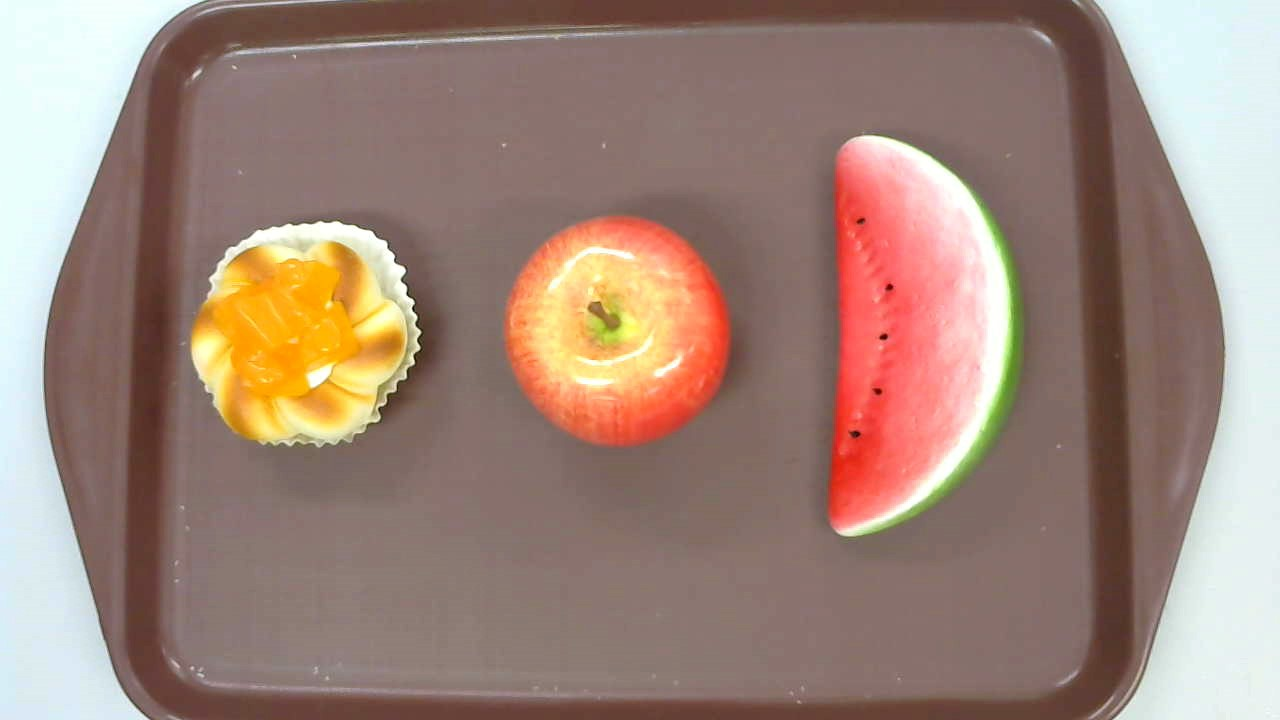mango tart: (190, 221, 421, 449)
red apple: (502, 213, 733, 447)
water melon: (828, 134, 1026, 538)
